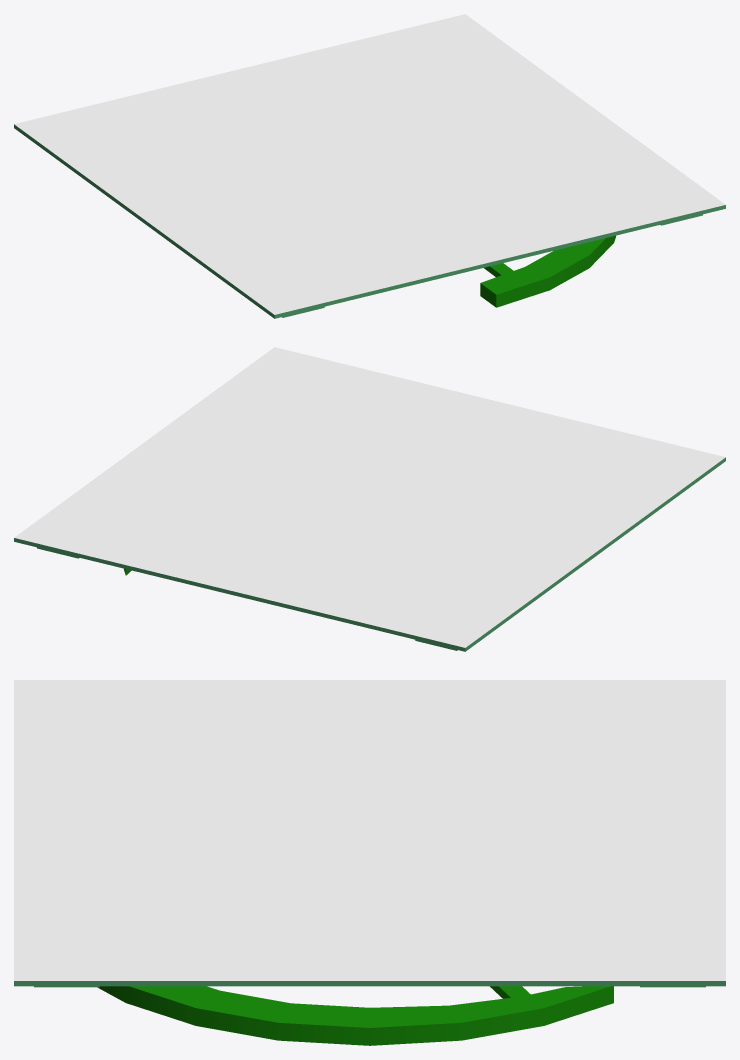
File: mech 1 floor lod0.FBX
3 views of the same model, one above another, from view 1: azimuth 30°, elevation 25°; view 2: azimuth 150°, elevation 25°; view 3: azimuth 270°, elevation 25° (orthographic). The views are drawn at different scales.
Parts seen in each view (by area): view 1: Group006, Cylinder002; view 2: Group006; view 3: Group006, Cylinder002.
Boxes of the visible parts, box(x1,y1,x2,y2) form: Group006: box(14, 14, 725, 318); Cylinder002: box(480, 235, 615, 307); Group006: box(14, 347, 725, 651); Group006: box(14, 680, 725, 987); Cylinder002: box(97, 986, 613, 1045).
Size of the model in its own units: 3 by 0.3565 by 3.
